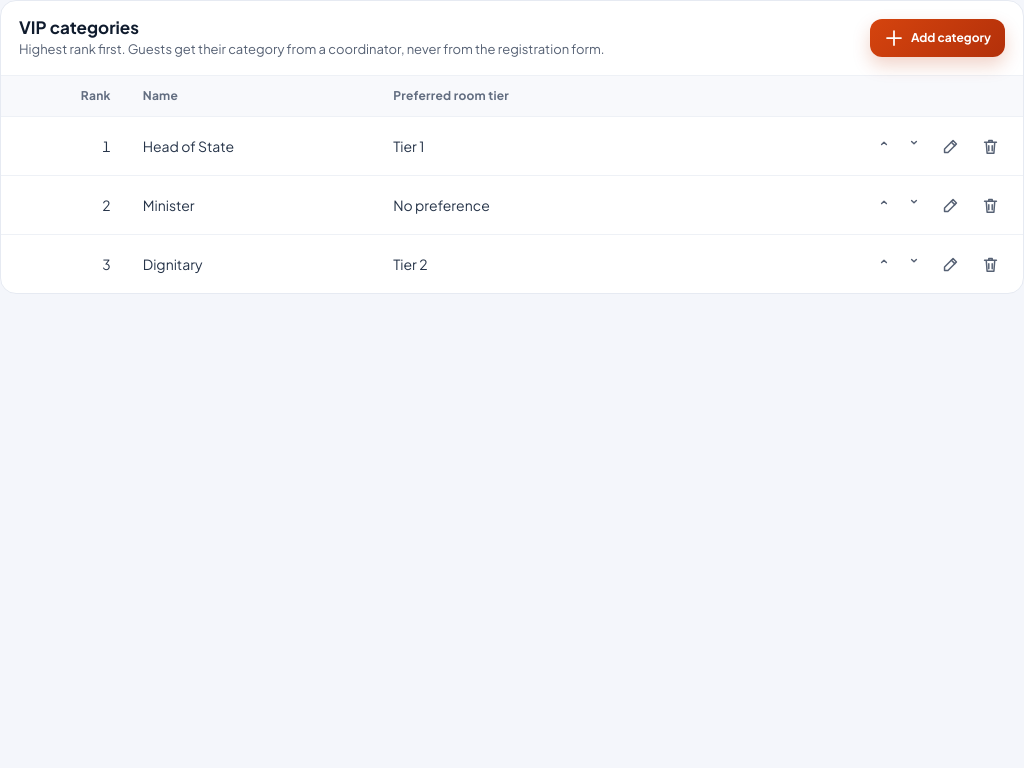
Test case: CategoriesTab › deletes a category after confirmation
Expected: the text "Minister" is shown, [127, 176, 377, 234]
Click the button named "Delete Minister" at (990, 205), box [973, 188, 1007, 222]
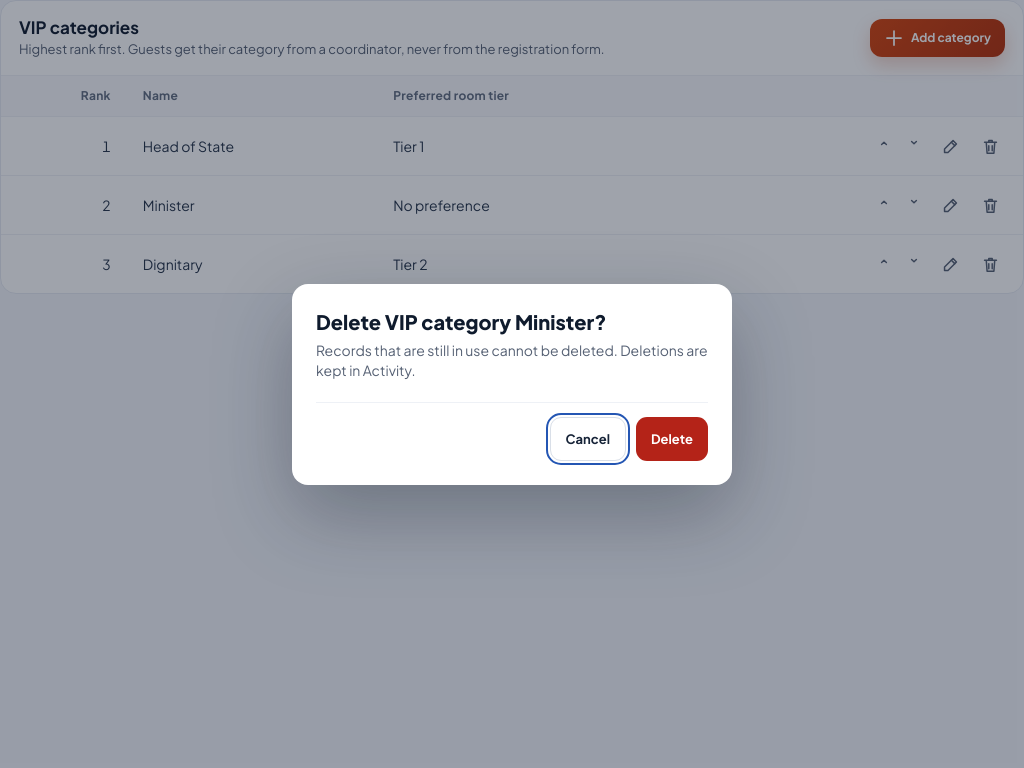
Click the button "Delete" at (672, 438), box [636, 416, 708, 460]
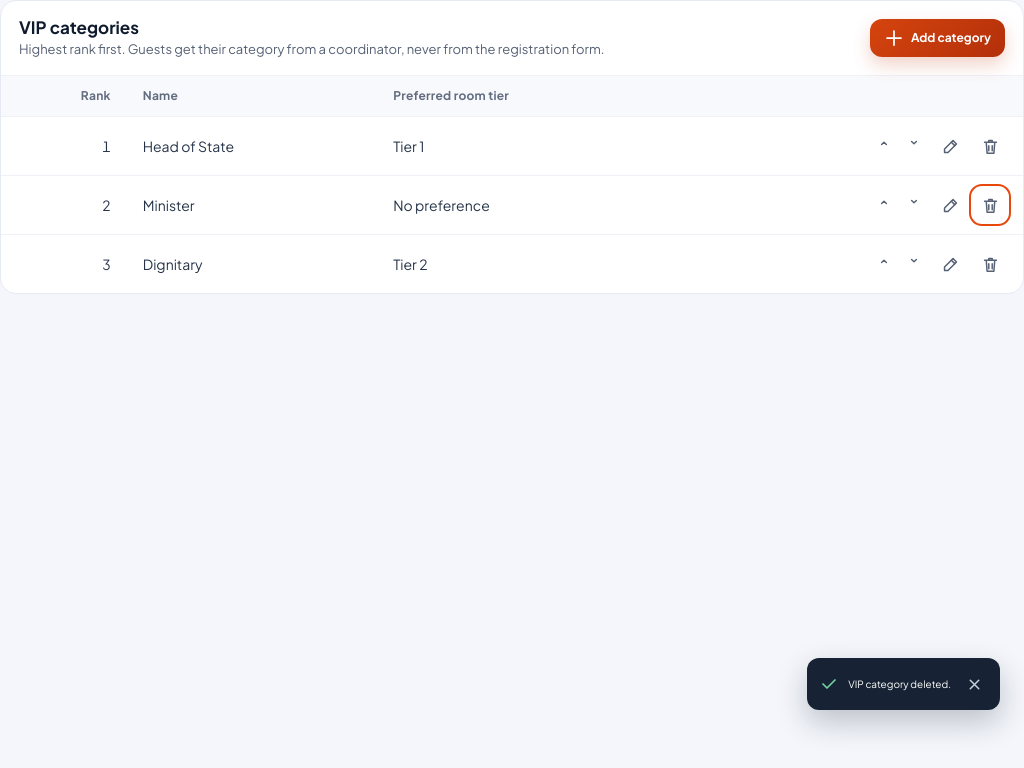
Expected: the text "VIP category deleted." is shown, [848, 674, 951, 694]
